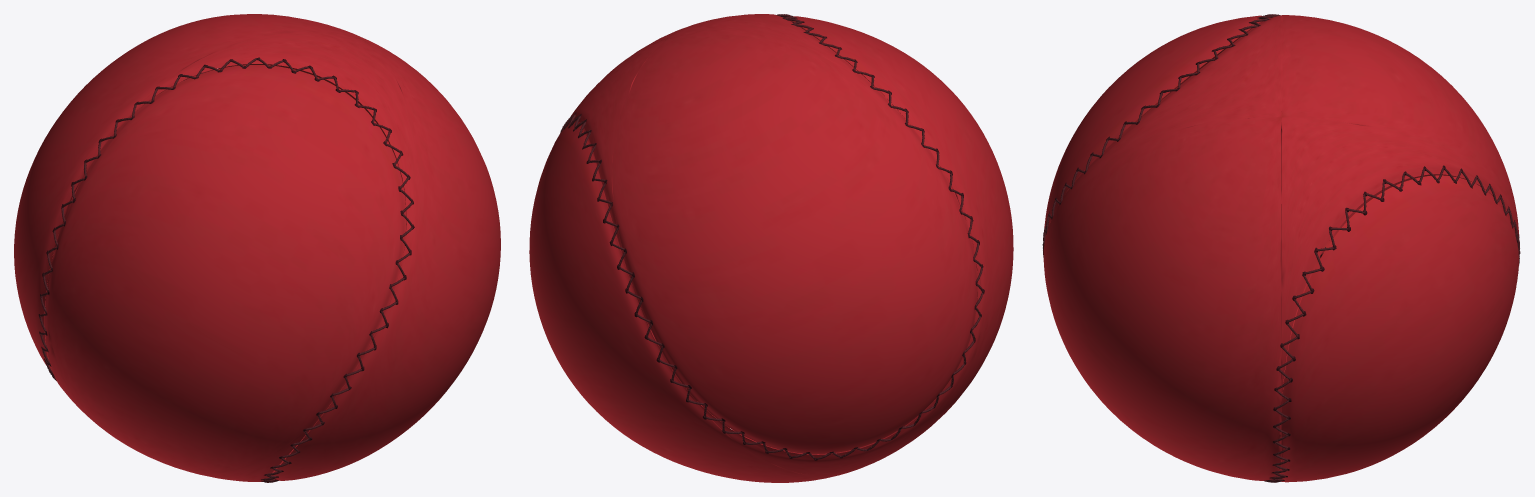
Rendered from jug-red-ball-desktop.glb.
3 renders of one model, left to right at view 1: azimuth 30°, elevation 25°; view 2: azimuth 150°, elevation 25°; view 3: azimuth 270°, elevation 25°, orthographic.
Visible parts, largest first — view 1: JUG red leather ball - 60mm; view 2: JUG red leather ball - 60mm; view 3: JUG red leather ball - 60mm.
Boxes of the visible parts, x1=… form: JUG red leather ball - 60mm: x1=14, y1=14, x2=500, y2=482; JUG red leather ball - 60mm: x1=529, y1=14, x2=1013, y2=482; JUG red leather ball - 60mm: x1=1042, y1=14, x2=1520, y2=482.
Size of the model in its own units: 0.06 by 0.0571 by 0.0589.
4 materials, 1 textured.
